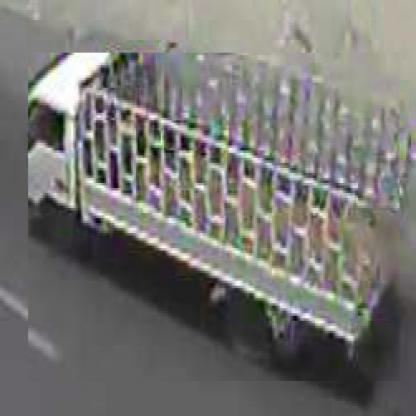truck: (29, 54, 402, 385)
